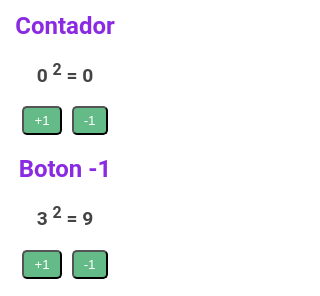
Test: Component -> MyCounter › debe decrementar el valor al pulsar -1
Click the button with test id "decrement" below "= 9". click: (90, 264)
box: [72,250,108,279]
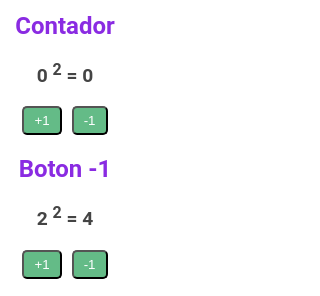
Expected: the text "2" is shown, [52,60,62,79]
Result: the text "4" is shown at [62,208,93,231]
